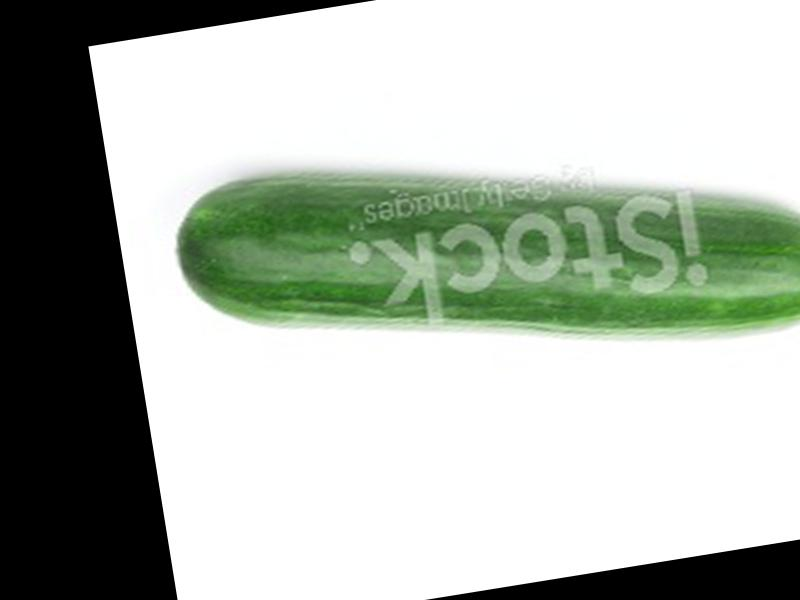Cucumber: (165, 89, 800, 421)
